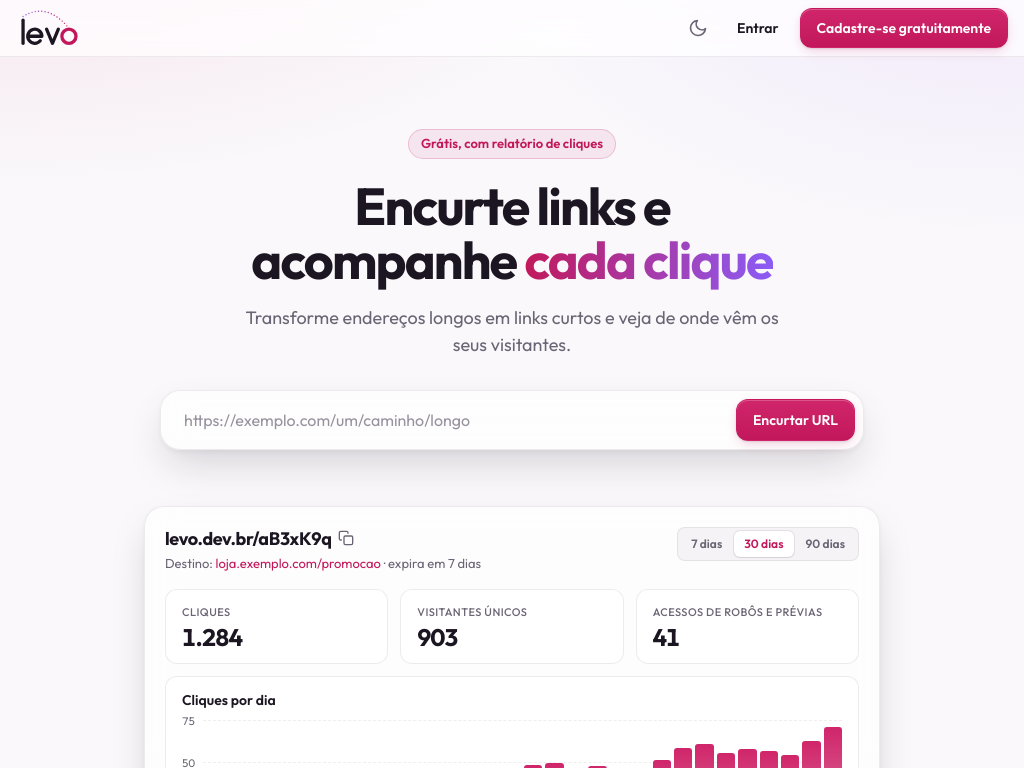
Home › "Encurtar URL" abre o convite para criar conta, levando a URL junto
Type "https://exemplo.com/longo" into the field named "URL longa". click: {"x": 448, "y": 420}
box: x1=169 y1=399 x2=728 y2=441
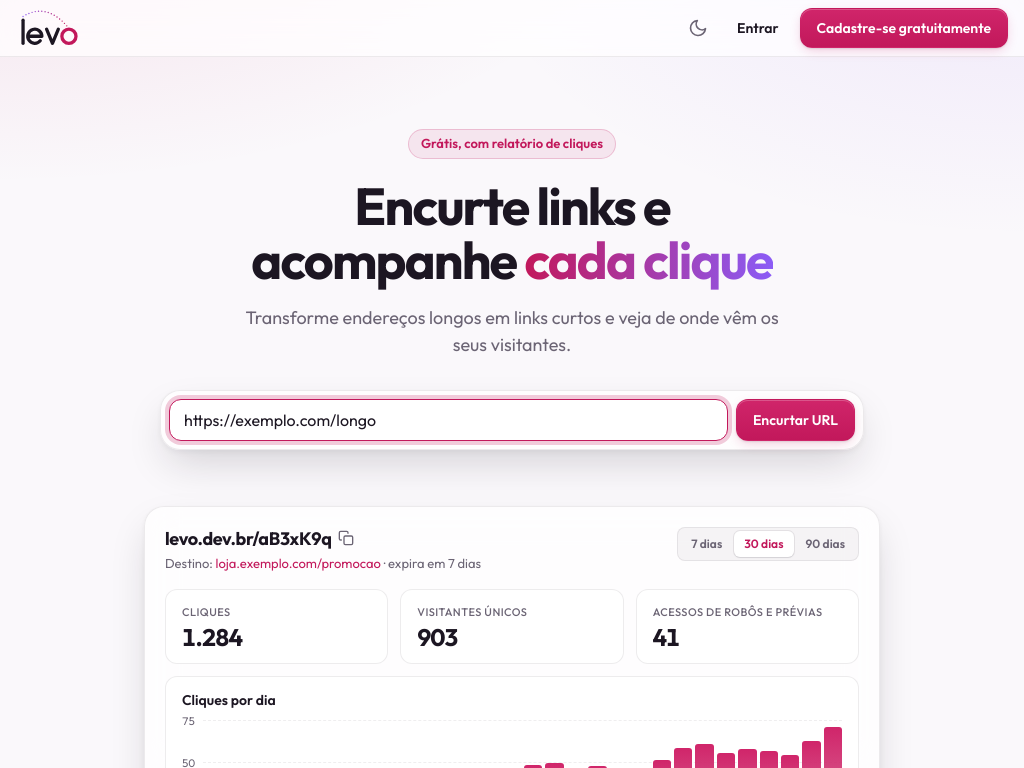
Click the button "Encurtar URL". click: {"x": 795, "y": 420}
box: x1=736 y1=399 x2=855 y2=441
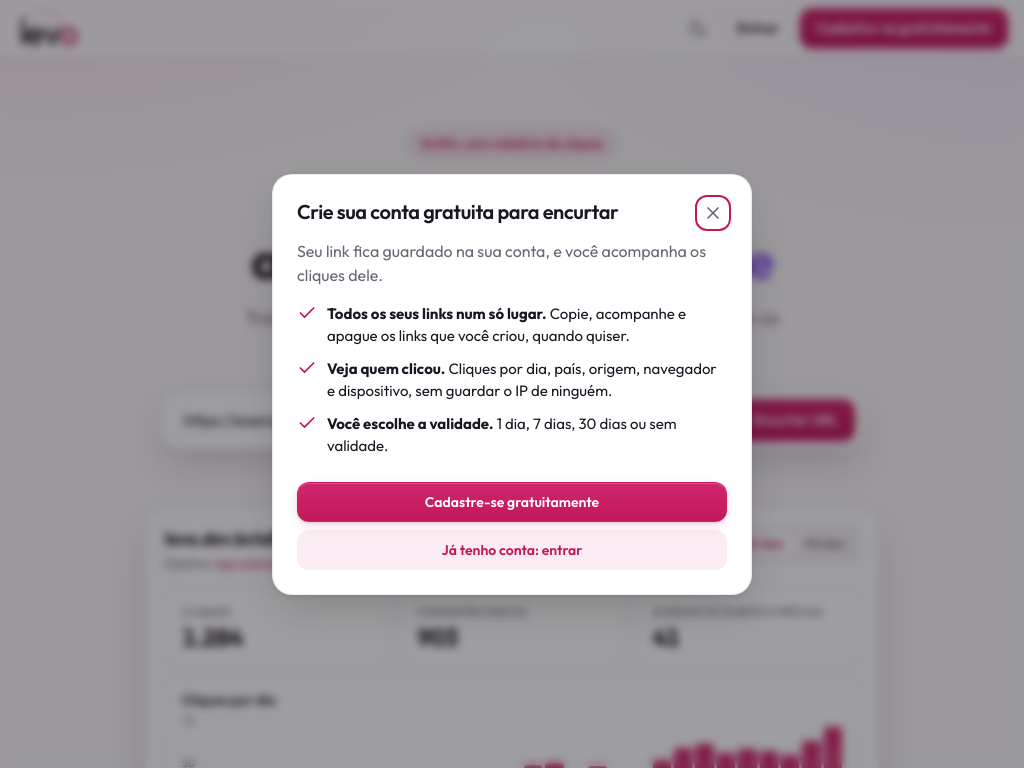
Expected: the dialog "Crie sua conta gratuita para encurtar" shows "Veja quem clicou", x1=327 y1=358 x2=441 y2=378
